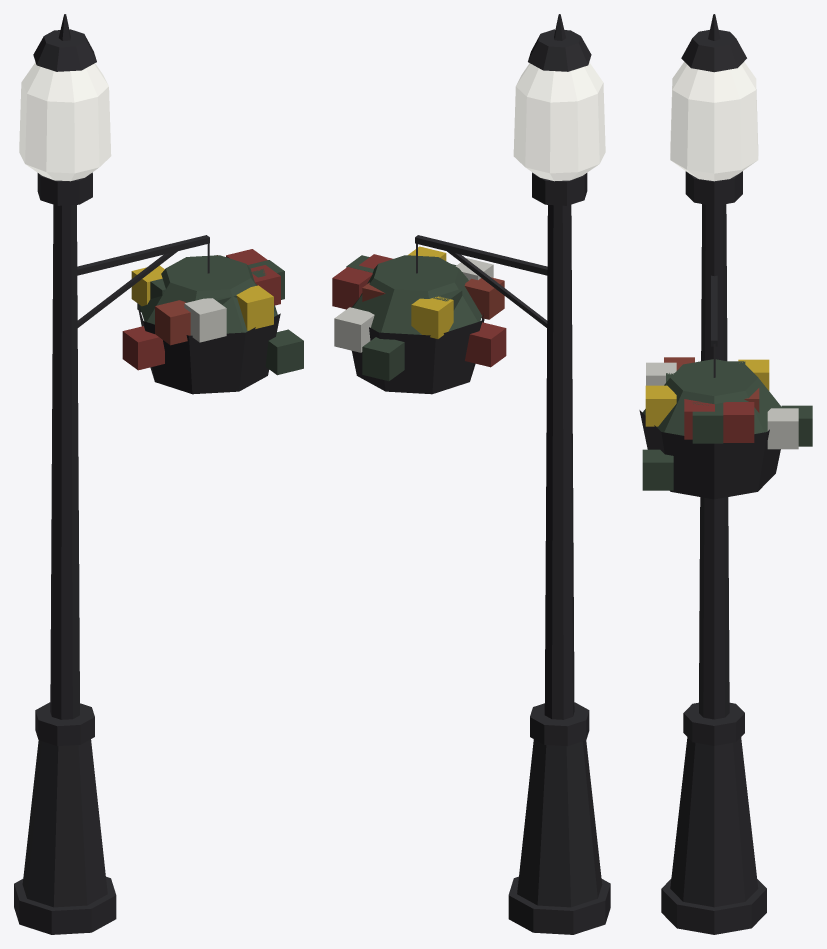
File: town_streetlight_basket 2.gltf
3 views of the same model, side by side, from view 1: azimuth 30°, elevation 25°; view 2: azimuth 150°, elevation 25°; view 3: azimuth 270°, elevation 25° (orthographic).
Visible parts, largest first — view 1: TownStreetlightBasket_Post, TownStreetlightBasket_Blooms, TownStreetlightBasket_Globe_Glow, TownStreetlightBasket_Basket; view 2: TownStreetlightBasket_Post, TownStreetlightBasket_Blooms, TownStreetlightBasket_Globe_Glow, TownStreetlightBasket_Basket; view 3: TownStreetlightBasket_Post, TownStreetlightBasket_Blooms, TownStreetlightBasket_Globe_Glow, TownStreetlightBasket_Basket.
Part boxes in pixels (box(x1,y1,x2,y2)): TownStreetlightBasket_Post: box(14, 14, 209, 934); TownStreetlightBasket_Blooms: box(122, 249, 303, 375); TownStreetlightBasket_Globe_Glow: box(19, 62, 111, 181); TownStreetlightBasket_Basket: box(137, 303, 280, 394); TownStreetlightBasket_Post: box(415, 14, 610, 934); TownStreetlightBasket_Blooms: box(332, 246, 506, 381); TownStreetlightBasket_Globe_Glow: box(513, 62, 605, 181); TownStreetlightBasket_Basket: box(352, 313, 484, 394); TownStreetlightBasket_Post: box(661, 14, 766, 934); TownStreetlightBasket_Blooms: box(642, 357, 812, 490); TownStreetlightBasket_Globe_Glow: box(670, 62, 758, 181); TownStreetlightBasket_Basket: box(639, 410, 780, 499).
Size of what is drawn, in the model's own units: 1.33 by 4.5 by 0.7864.
Materials: 2 (2 with a texture image).
